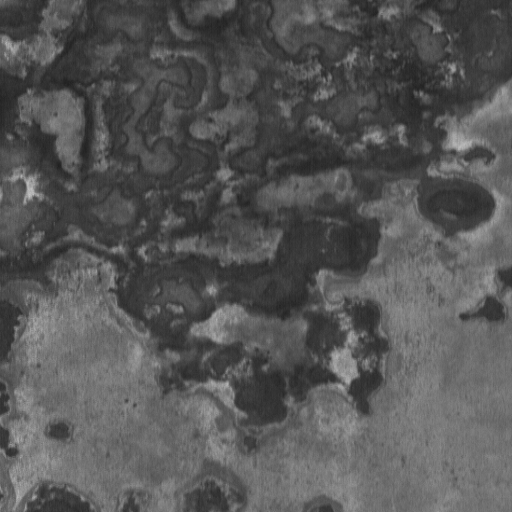aokeng: (101, 206, 389, 347), (411, 169, 499, 241)
